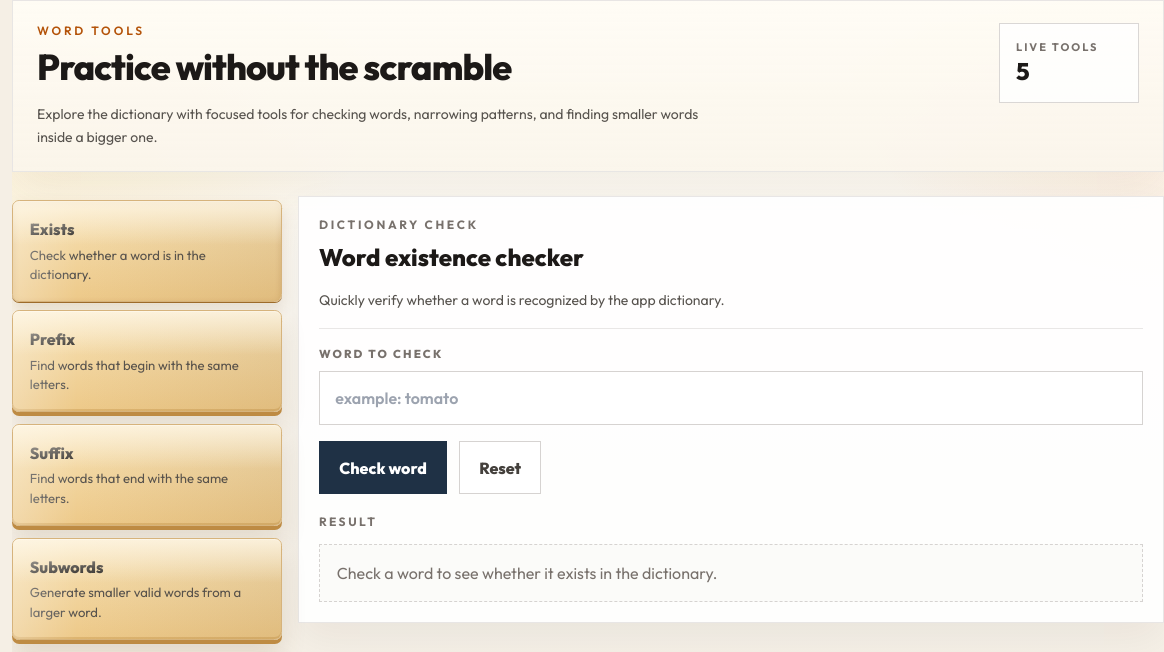
Test: WordTools.vue › switches between tool panels
Click the button with class "tool-rail-button" that starts with "Suffix" at (147, 475), box [12, 424, 282, 526]
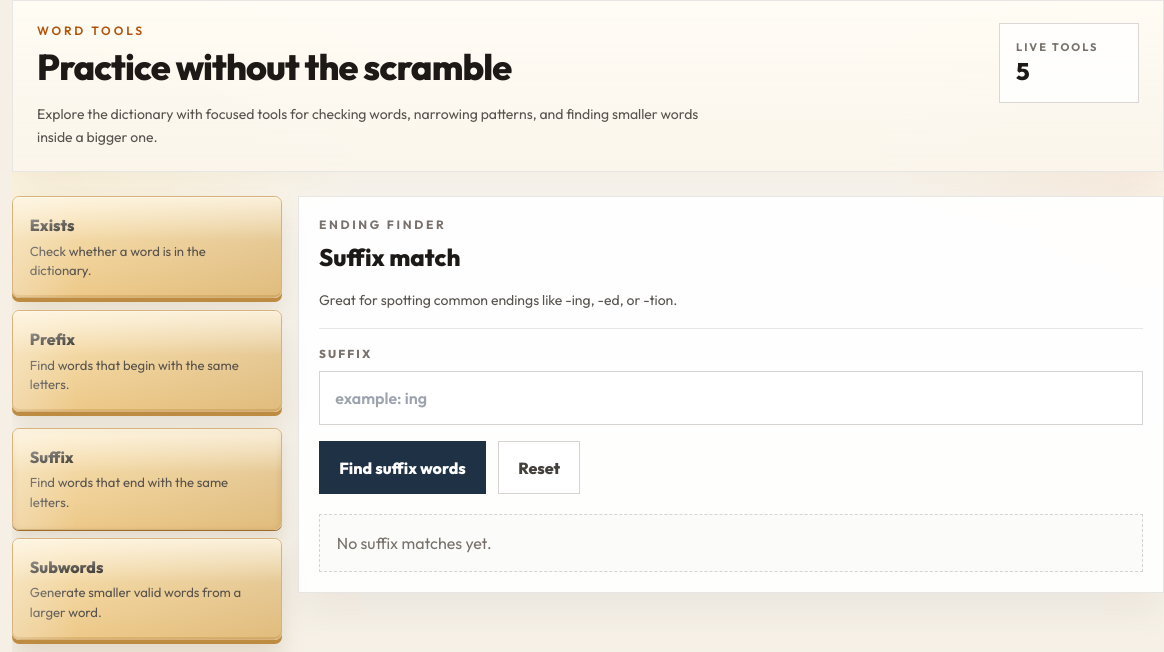
Expected: the text "Suffix" is shown, [30, 447, 74, 467]
Now the text "Suffix match" is shown, box [319, 242, 460, 272]
